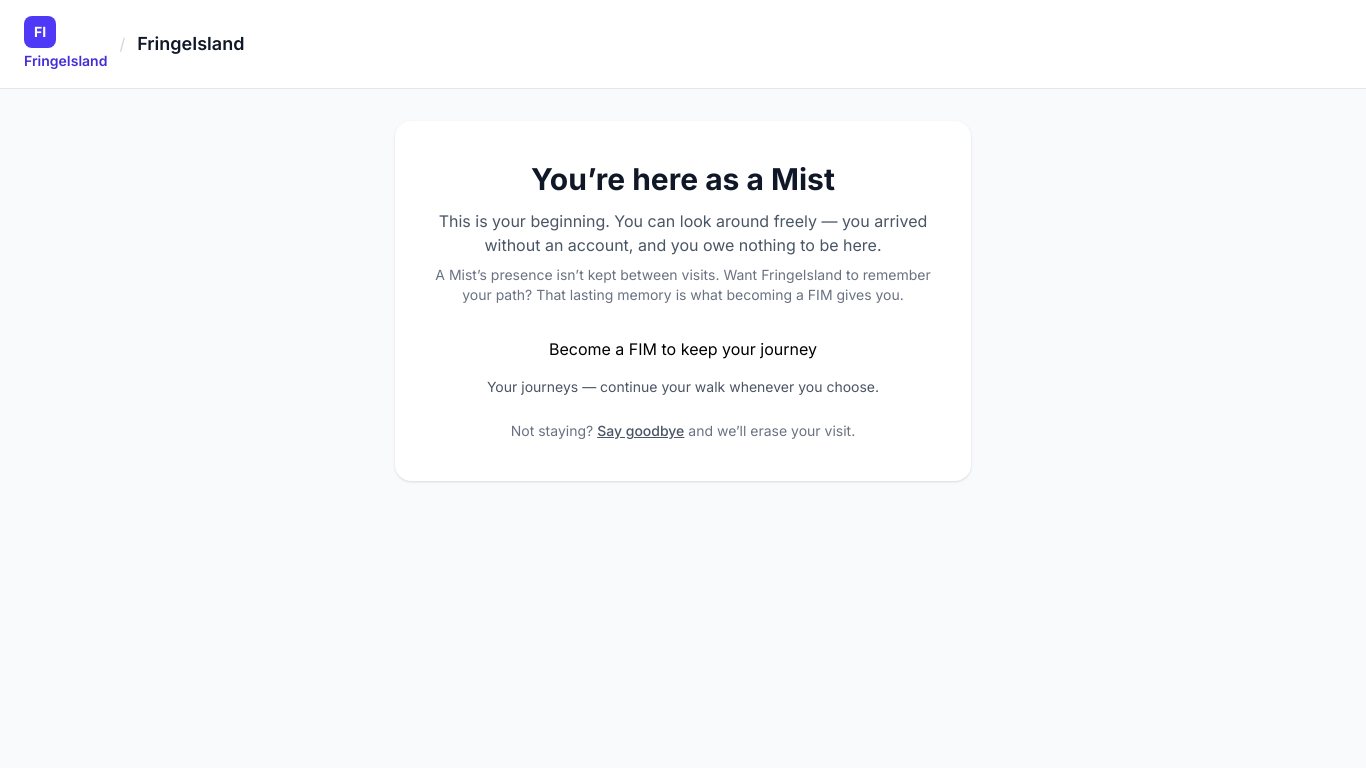
it: FEAT-H004 STORY-3 (unit) — the farewell › cancel closes the modal without erasing
Click the button "Say goodbye": click(641, 431) [597, 421, 684, 441]
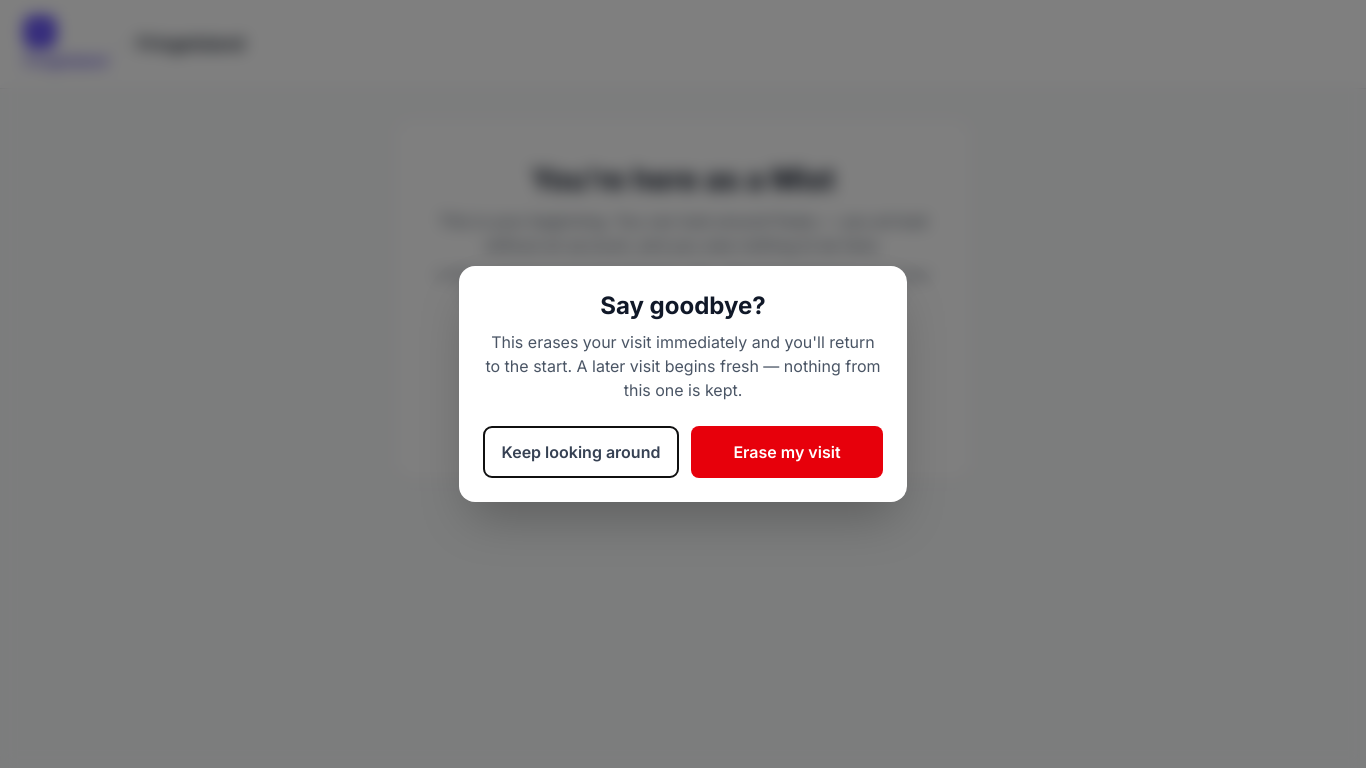
Click the button with test id "confirm-modal-cancel": click(581, 452) [483, 426, 679, 478]
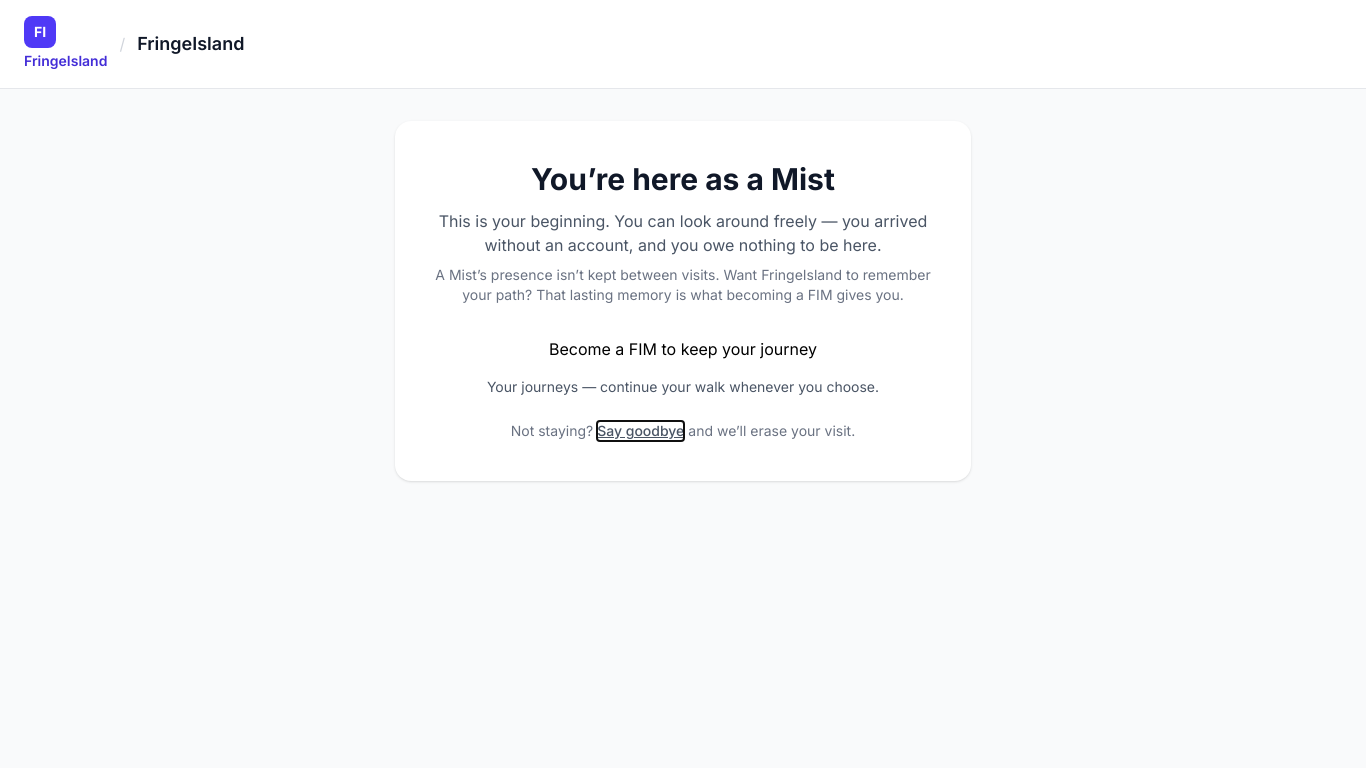
Expected: the dialog with test id "confirm-modal" is gone
